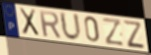0: (83, 15, 102, 44)
R: (38, 9, 63, 39)
U: (58, 11, 83, 43)
X: (18, 7, 41, 38)
Z: (101, 17, 125, 48), (122, 19, 146, 49)
